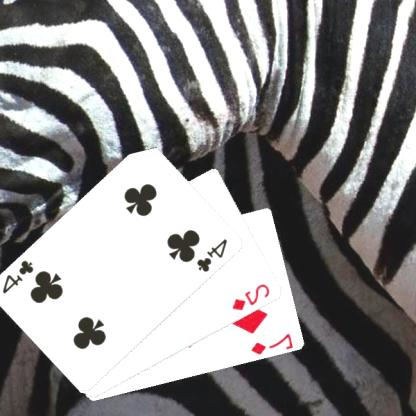2D: (231, 281, 274, 312)
4C: (2, 257, 38, 295), (196, 236, 231, 274)
7D: (250, 331, 296, 356)
